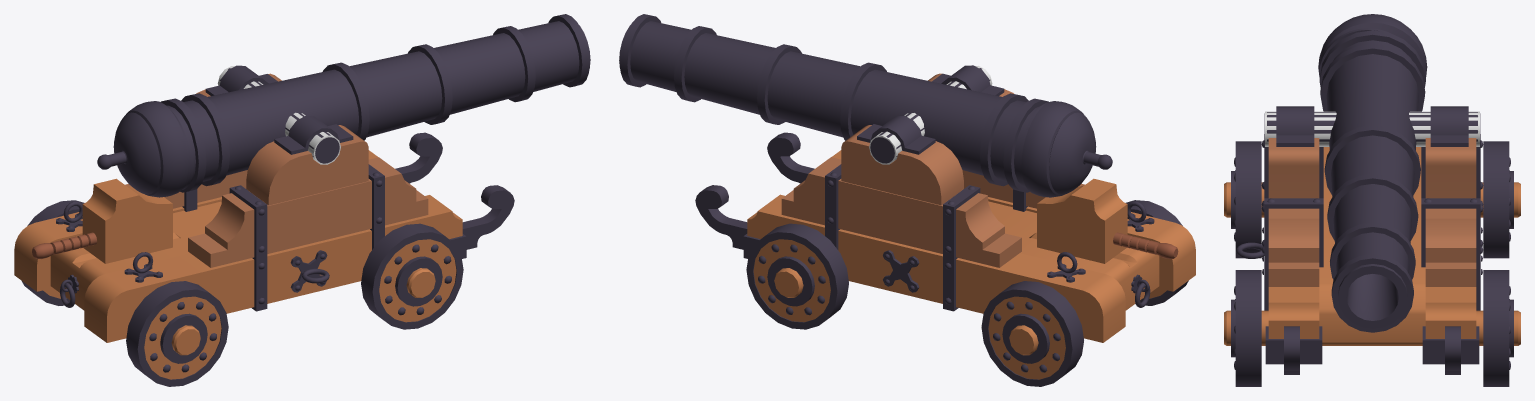
File: Cannon.fbx
3 views of the same model, side by side, from view 1: azimuth 30°, elevation 25°; view 2: azimuth 150°, elevation 25°; view 3: azimuth 270°, elevation 25° (orthographic). The views are drawn at different scales.
Parts seen in each view (by area): view 1: Cylinder.008, Cube.049, Cube.051, Cube.050, Cylinder.006, Cylinder.007, Sphere.009, Cube.052, Cube.053, Cylinder.022, Cylinder.013, Cylinder.005 (+3 smaller); view 2: Cylinder.008, Cube.049, Cube.051, Cube.050, Cylinder.006, Cylinder.007, Sphere.009, Cube.052, Cube.053, Cylinder.022, Cylinder.020, Cylinder.013 (+3 smaller); view 3: Cylinder.008, Cube.051, Cube.049, Cylinder.007, Cylinder.006, Cube.052, Cube.050, Cube.053, Sphere.009, Cylinder.005, Cylinder.013, Cylinder.019 (+1 smaller).
Part boxes in pixels (left/top/right/bottom): Cylinder.008: left=161, top=14, right=590, bottom=192; Cube.049: left=14, top=132, right=514, bottom=342; Cube.051: left=125, top=157, right=428, bottom=311; Cube.050: left=50, top=178, right=221, bottom=310; Cylinder.006: left=22, top=200, right=228, bottom=386; Cylinder.007: left=361, top=223, right=463, bottom=329; Sphere.009: left=97, top=101, right=193, bottom=197; Cube.052: left=196, top=73, right=368, bottom=205; Cube.053: left=205, top=65, right=353, bottom=154; Cylinder.022: left=32, top=232, right=96, bottom=259; Cylinder.013: left=219, top=68, right=339, bottom=163; Cylinder.005: left=217, top=66, right=340, bottom=164; Cylinder.008: left=619, top=14, right=1048, bottom=192; Cube.049: left=695, top=132, right=1195, bottom=342; Cube.051: left=781, top=157, right=1084, bottom=311; Cube.050: left=988, top=178, right=1159, bottom=310; Cylinder.006: left=981, top=200, right=1188, bottom=386; Cylinder.007: left=746, top=223, right=848, bottom=329; Sphere.009: left=1021, top=101, right=1112, bottom=197; Cube.052: left=841, top=73, right=1013, bottom=205; Cube.053: left=857, top=65, right=1004, bottom=154; Cylinder.022: left=1113, top=232, right=1178, bottom=258; Cylinder.020: left=883, top=250, right=919, bottom=292; Cylinder.013: left=870, top=68, right=990, bottom=163; Cylinder.008: left=1319, top=30, right=1425, bottom=332; Cube.051: left=1264, top=134, right=1480, bottom=310; Cube.049: left=1265, top=287, right=1479, bottom=374; Cylinder.007: left=1224, top=270, right=1520, bottom=386; Cylinder.006: left=1224, top=141, right=1520, bottom=258; Cube.052: left=1268, top=138, right=1476, bottom=198; Cube.050: left=1319, top=147, right=1425, bottom=342; Cube.053: left=1276, top=106, right=1468, bottom=146; Sphere.009: left=1318, top=14, right=1427, bottom=77; Cylinder.005: left=1265, top=111, right=1479, bottom=146; Cylinder.013: left=1264, top=112, right=1480, bottom=144; Cylinder.019: left=1261, top=140, right=1483, bottom=253.
Bounding box in the file's own units: 328 × 132 × 139.
